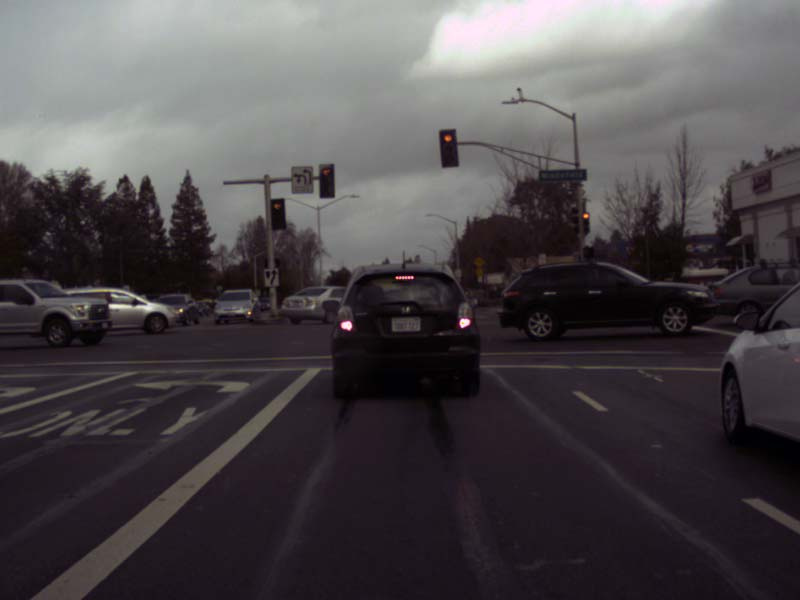Red: (437, 128, 458, 166), (318, 162, 335, 198), (270, 198, 285, 229), (582, 211, 591, 233)
